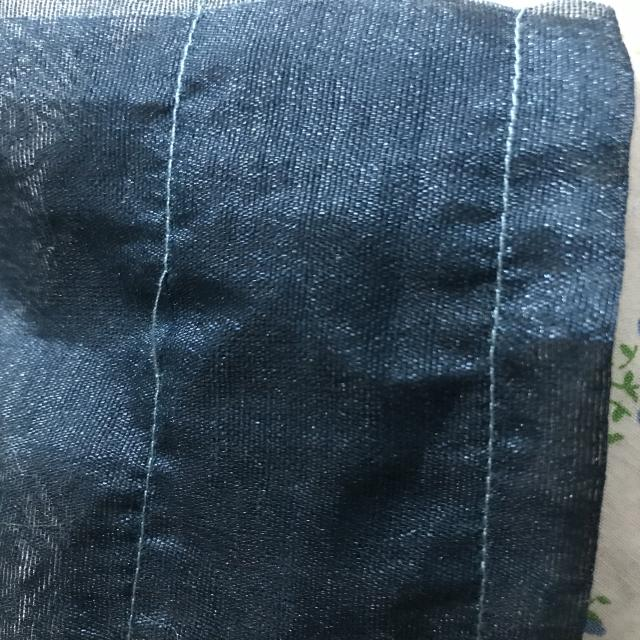good: (163, 87, 195, 207)
skip: (125, 252, 204, 402)
